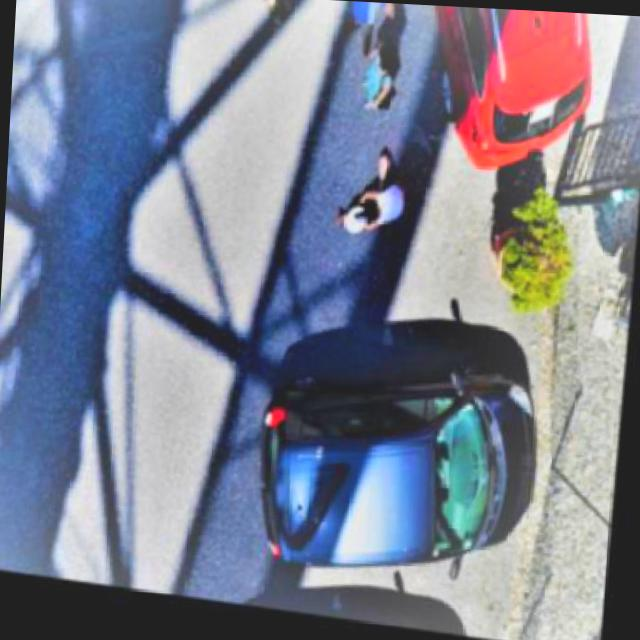Person: (329, 144, 419, 252), (356, 44, 406, 128), (325, 0, 389, 52), (374, 3, 408, 52)
